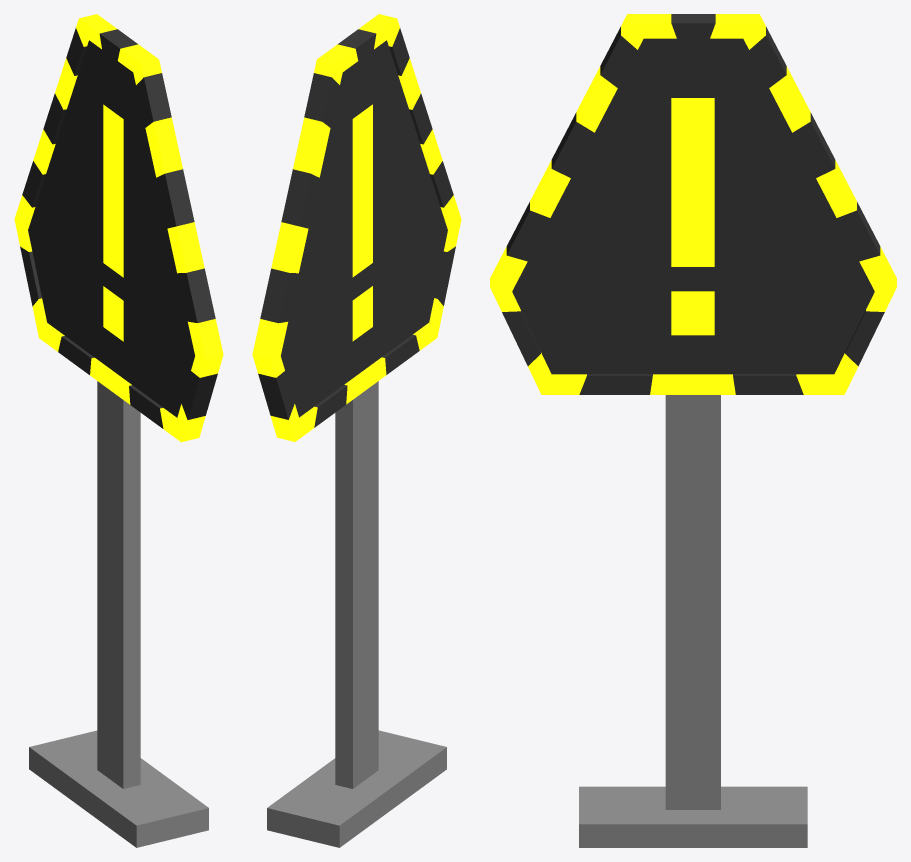
File: ZAGR3.fbx
3 views of the same model, side by side, from view 1: azimuth 30°, elevation 25°; view 2: azimuth 150°, elevation 25°; view 3: azimuth 270°, elevation 25° (orthographic). The views are drawn at different scales.
Parts seen in each view (by area): view 1: Плоскость.001; view 2: Плоскость.001; view 3: Плоскость.001.
Part boxes in pixels (x1,y1,x2,y2): Плоскость.001: (14, 14, 223, 847); Плоскость.001: (252, 14, 461, 847); Плоскость.001: (490, 14, 896, 847).
Bounding box in the file's own units: 11.97 × 120 × 54.59.
